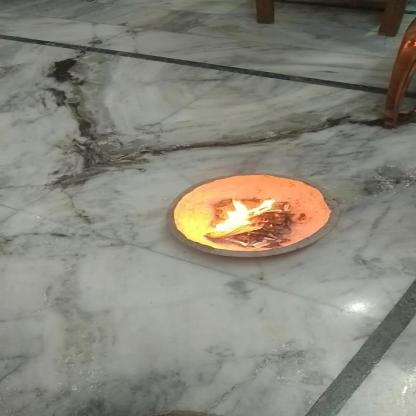fire: (215, 194, 276, 236)
